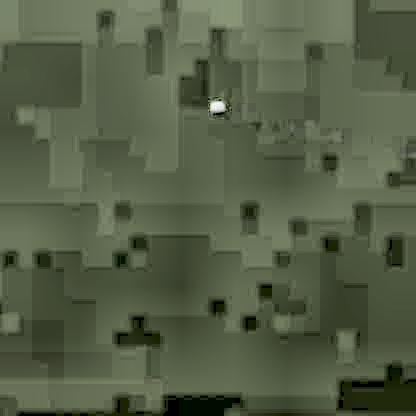golfball: (208, 99, 223, 111)
